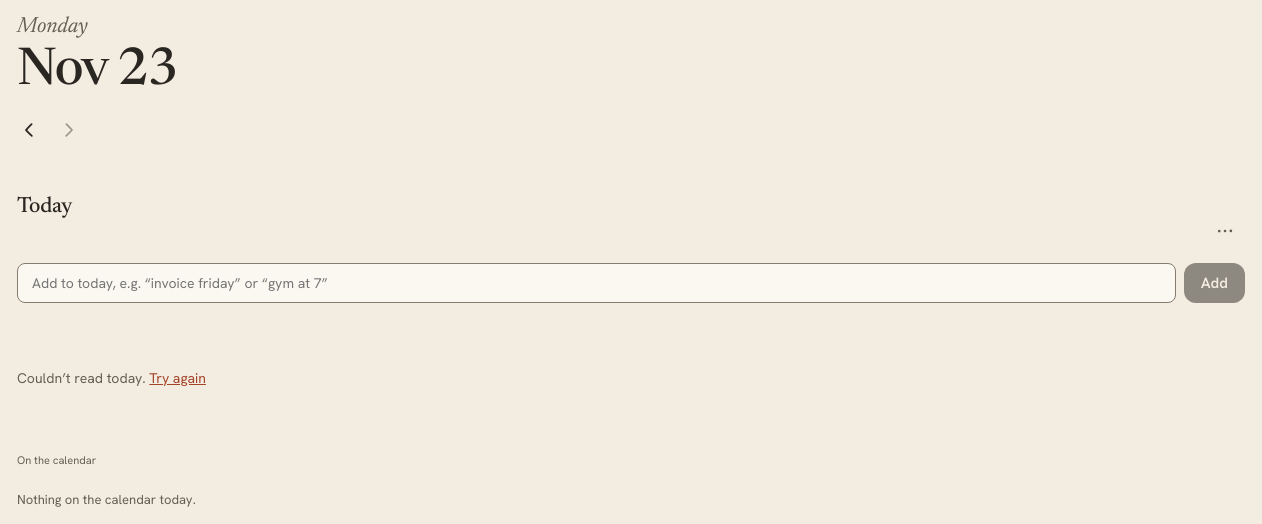
Test: 2026-08-25 — the Today tab › recovers when the retry succeeds
This screenshot has width=1262, height=524.
Check: the field labelled "Add to today" is shown, box [17, 262, 1176, 302]
Check: the message shows "Couldn’t read today", box [17, 368, 146, 386]
Click the button "Try again" at (178, 378), box [149, 368, 206, 388]
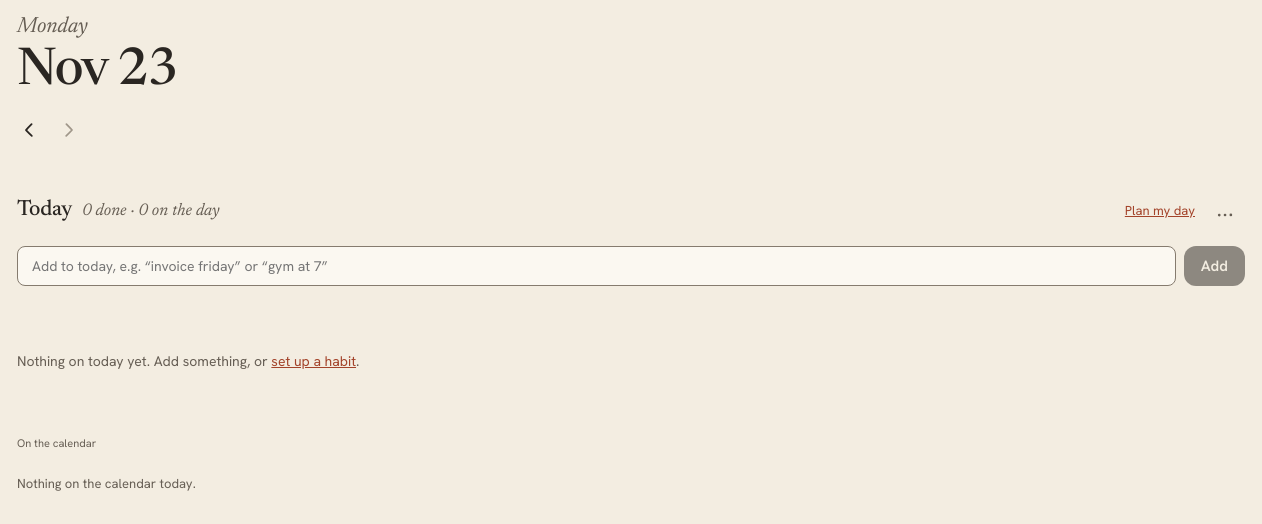
Check: the field labelled "Add to today" is enabled, box [17, 246, 1176, 286]
